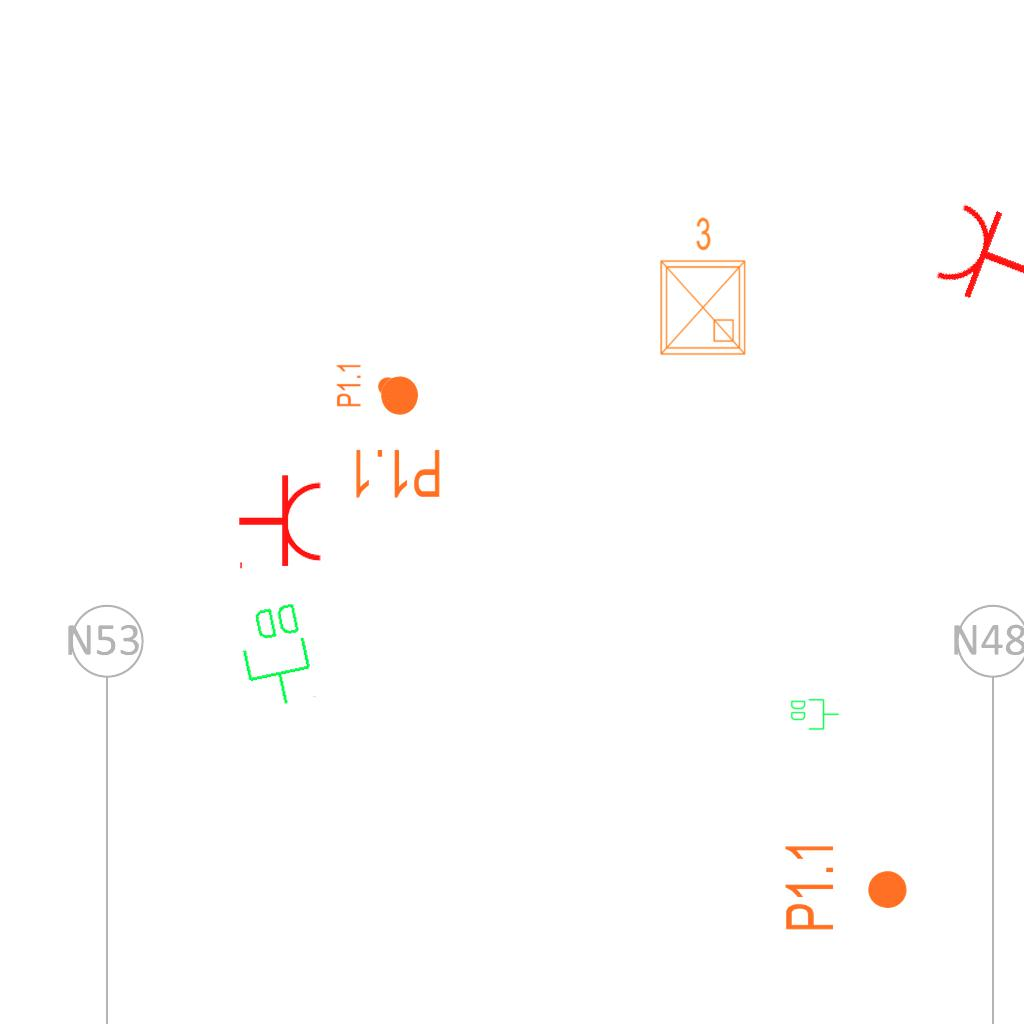Datenanschluss_zweifach: (232, 597, 321, 714), (789, 697, 840, 731)
Downlight_LED_Einbauleuchten_Flur: (782, 840, 910, 933), (350, 373, 443, 501), (335, 362, 399, 408)
Einbaudownlights_LED_Konferenzraeume: (649, 212, 753, 362)
Schukosteckdose_einfach: (929, 191, 1024, 317), (237, 473, 324, 573)
